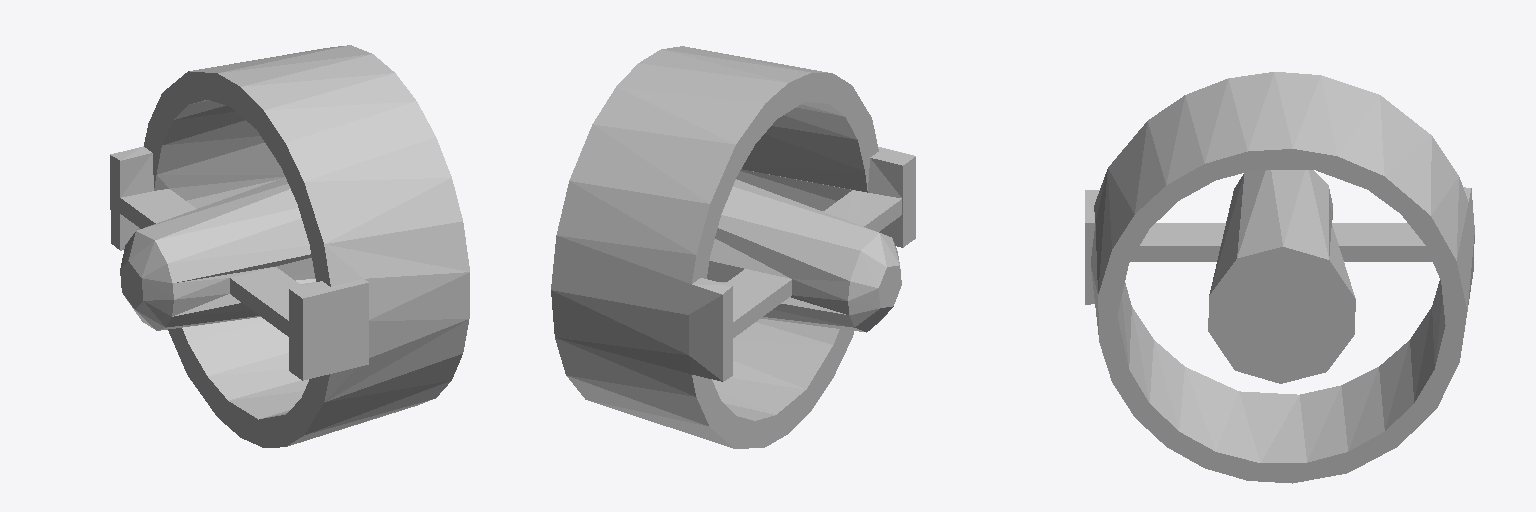
File: rose_thruster_small.obj
The picture shows the model from 3 angles: view 1: azimuth 30°, elevation 25°; view 2: azimuth 150°, elevation 25°; view 3: azimuth 270°, elevation 25°; orthographic projection.
Parts seen in each view (by area): view 1: rose_thruster_small_duct_hydro; view 2: rose_thruster_small_duct_hydro; view 3: rose_thruster_small_duct_hydro.
Boxes of the visible parts, box(x1,y1,x2,y2) form: rose_thruster_small_duct_hydro: box(110, 45, 469, 447); rose_thruster_small_duct_hydro: box(551, 46, 915, 448); rose_thruster_small_duct_hydro: box(1085, 72, 1474, 483).
Bounding box in the file's own units: 0.1605 × 0.2183 × 0.2198.